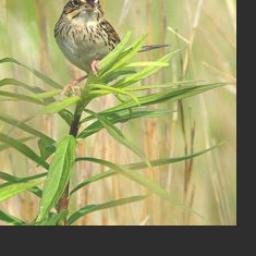Sparrow: (52, 0, 172, 105)
